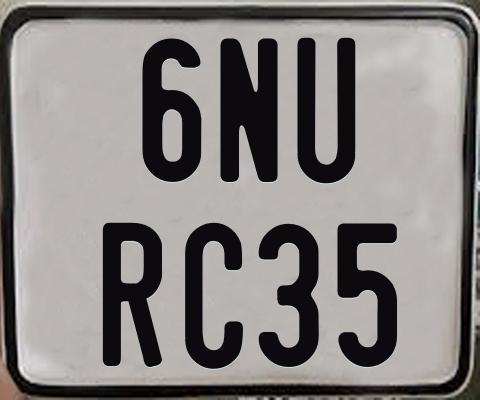3: (257, 221, 320, 370)
5: (334, 223, 398, 373)
6: (140, 36, 203, 186)
C: (183, 222, 244, 374)
N: (218, 35, 278, 179)
R: (103, 221, 165, 366)
U: (297, 37, 360, 184)
